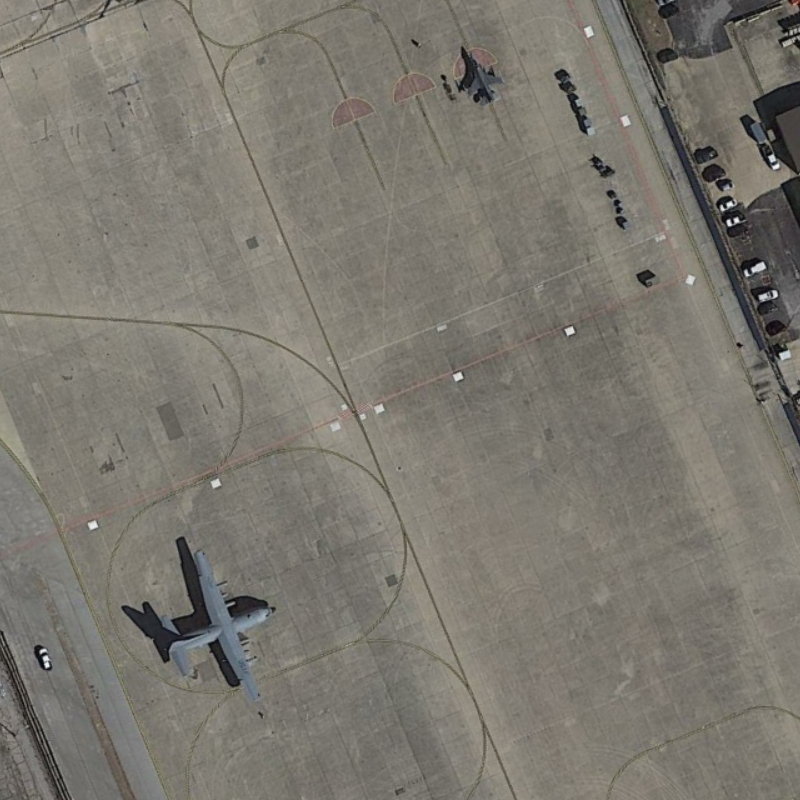A2: (153, 538, 289, 711)
A5: (463, 48, 506, 108)
